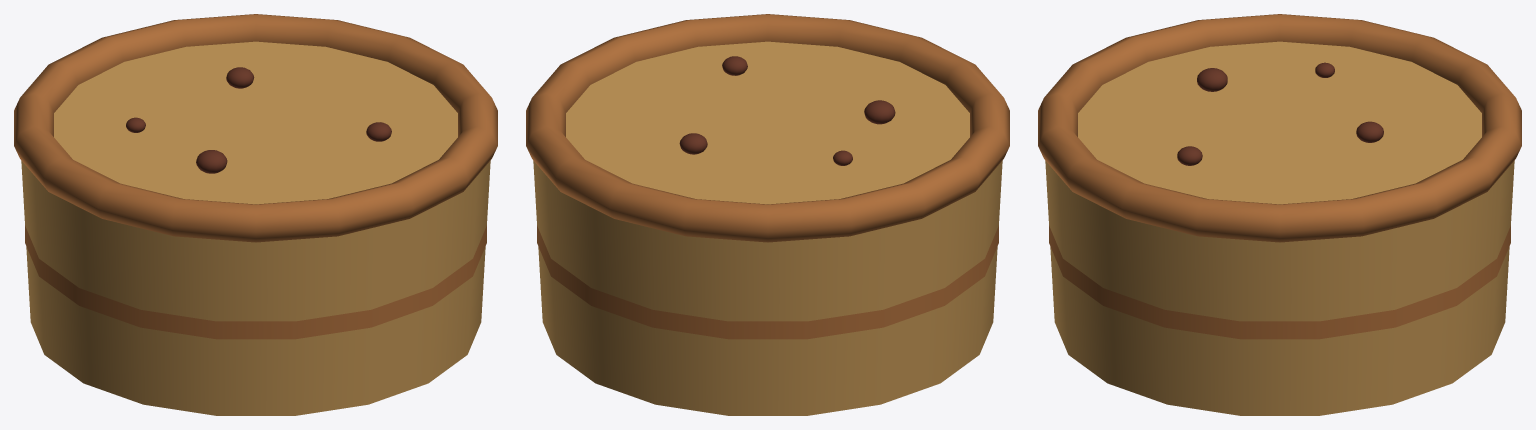
The model's file is sk_cheese_wheel.glb.
The picture shows the model from 3 angles, left to right: view 1: azimuth 30°, elevation 25°; view 2: azimuth 150°, elevation 25°; view 3: azimuth 270°, elevation 25°; orthographic projection.
Visible parts, largest first — view 1: plaster; view 2: plaster; view 3: plaster.
Part boxes in pixels (x1,y1,x2,y2): plaster: [14, 14, 497, 415]; plaster: [526, 14, 1009, 415]; plaster: [1038, 14, 1521, 415].
Bounding box in the file's own units: 0.436 × 0.2098 × 0.4294.
